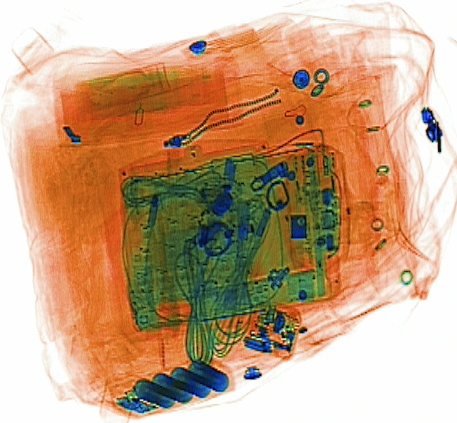powerbank: (109, 354, 229, 416)
